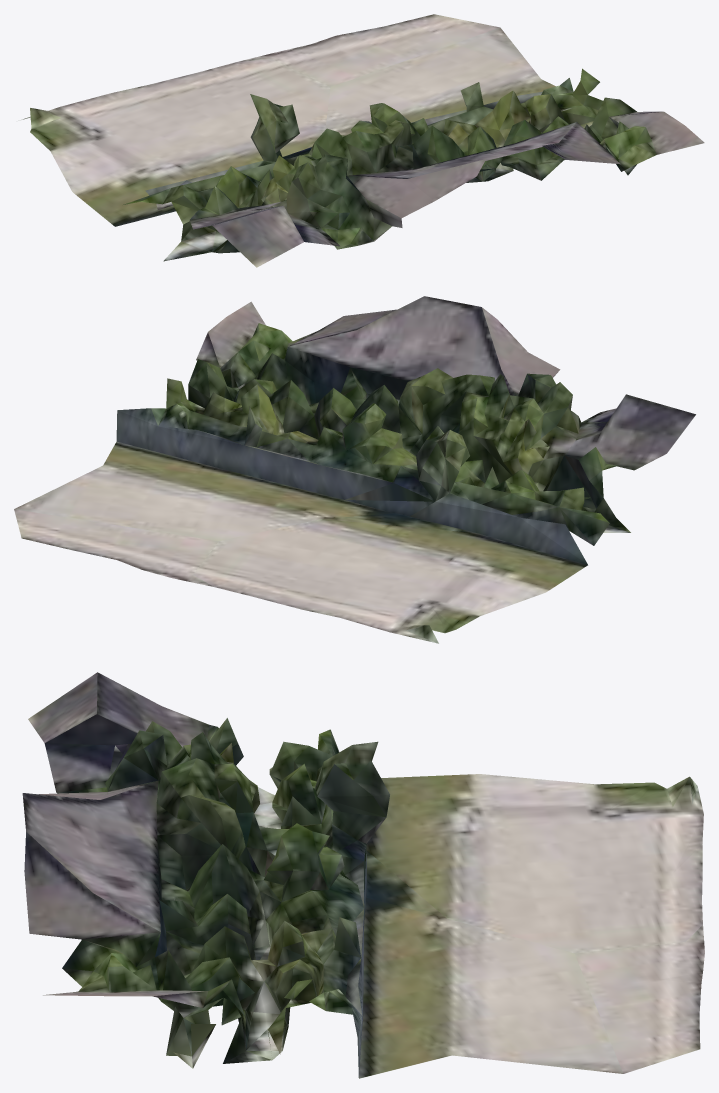
Rendered from Tile_+003_+007.glb.
3 views of the same model, one above another, from view 1: azimuth 30°, elevation 25°; view 2: azimuth 150°, elevation 25°; view 3: azimuth 270°, elevation 25° (orthographic). The views are drawn at different scales.
Parts seen in each view (by area): view 1: rtc; view 2: rtc; view 3: rtc.
Part boxes in pixels (<box>): rtc: <box>18,14,704,267</box>; rtc: <box>14,296,695,643</box>; rtc: <box>22,672,704,1078</box>.
Size of the model in its own units: 61.26 by 13.11 by 57.03.
Materials: 1 (1 with a texture image).
